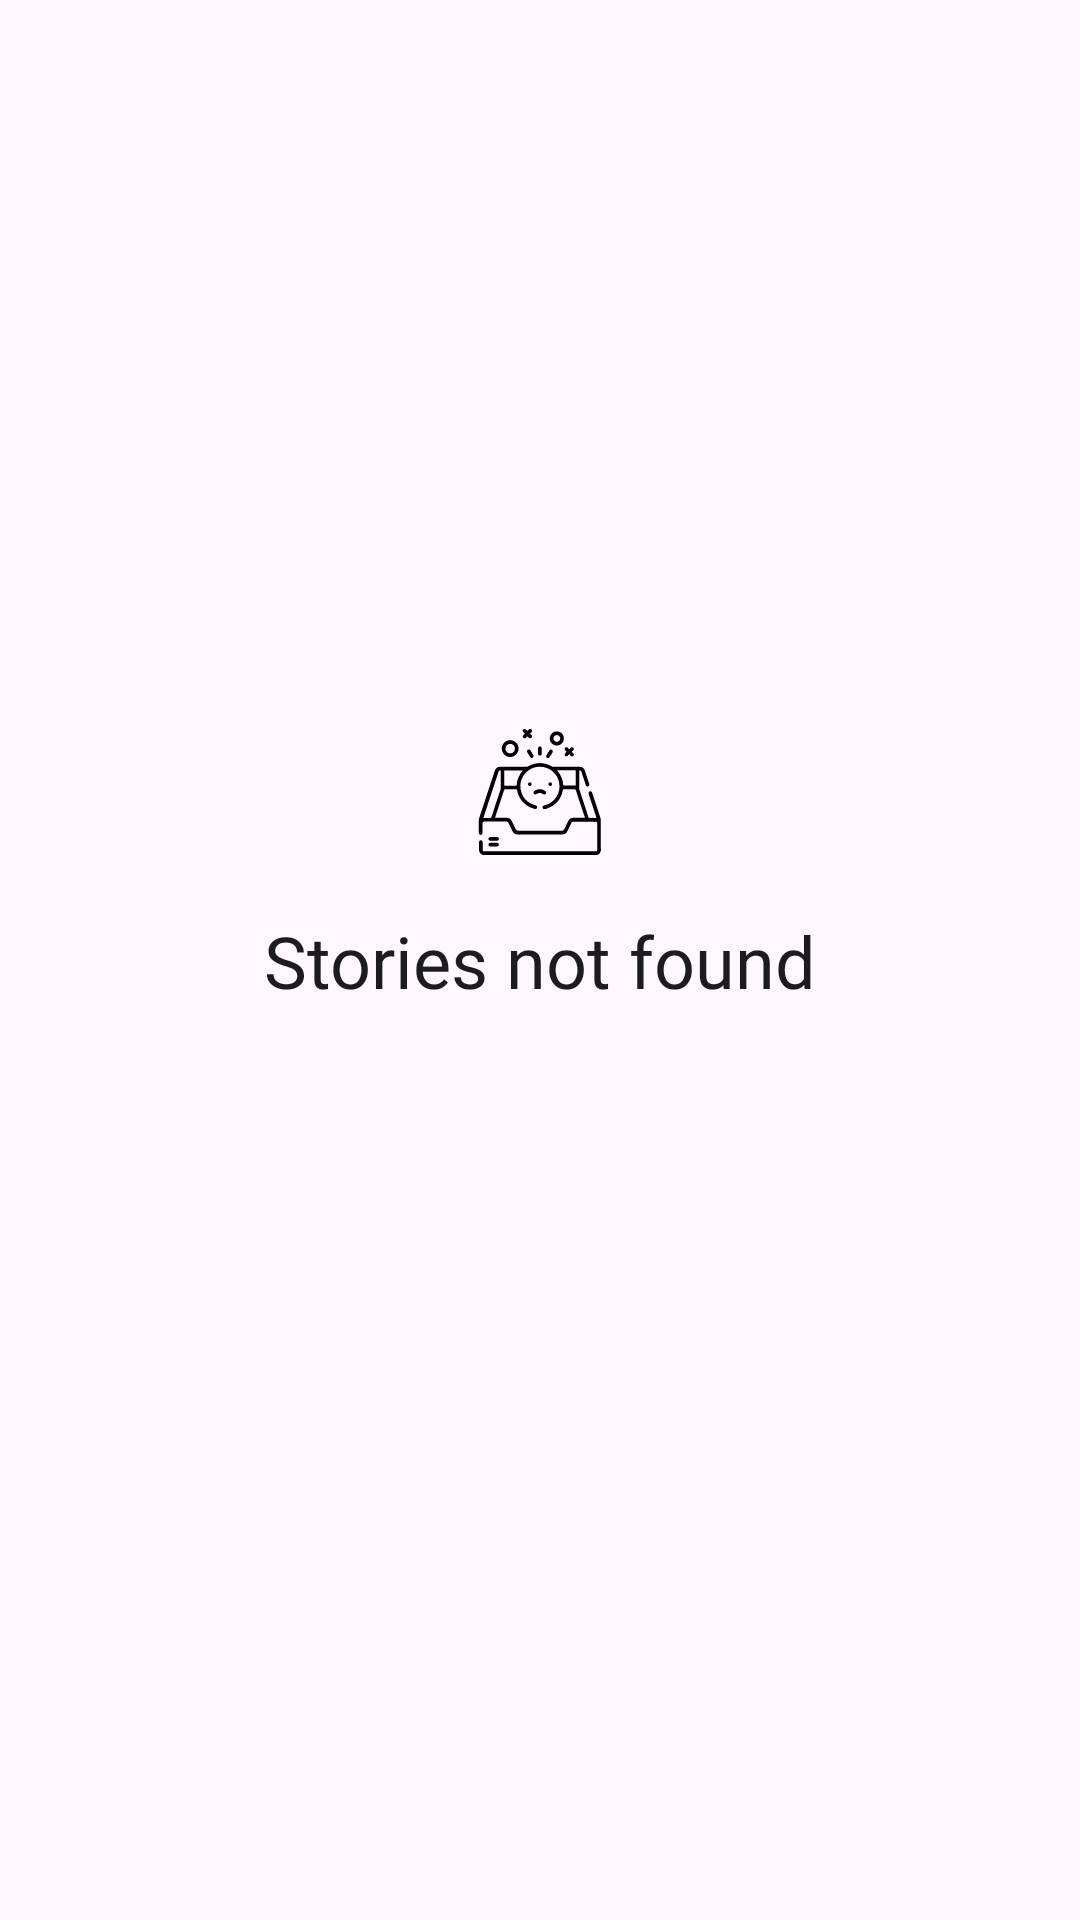

Named icons in this screenshot (1080*1920) and their centers, (x=x, y=y):
empty: (x=539, y=792)
